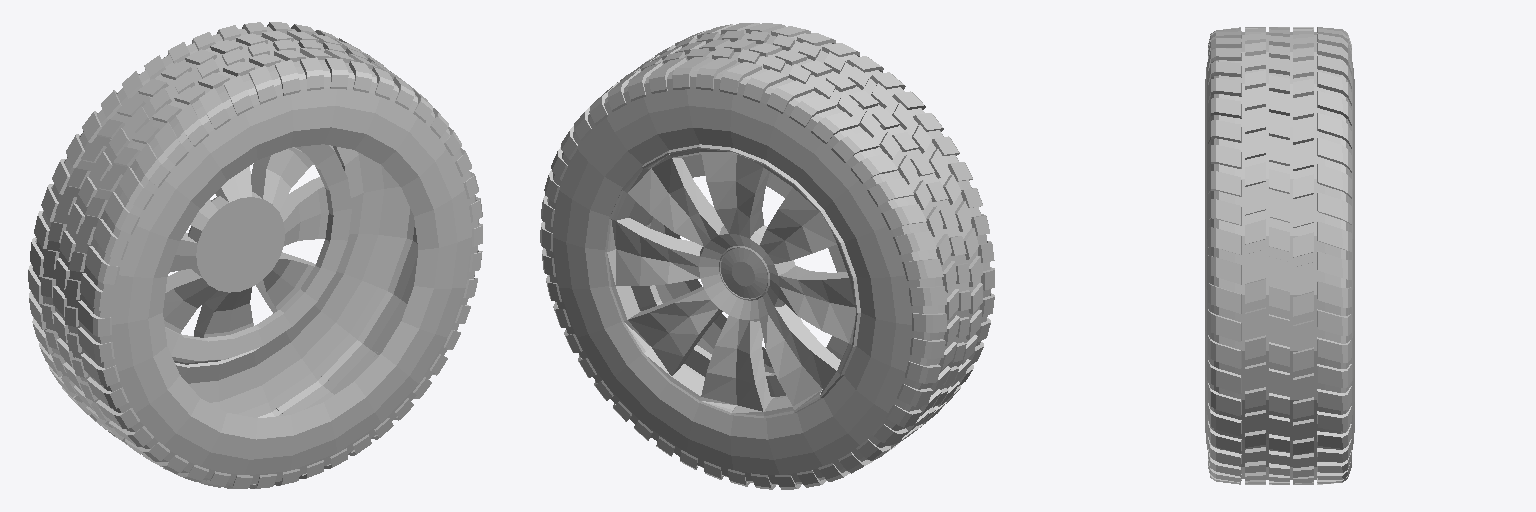
Rendered from tire&rim&tread.obj.
3 renders of one model, left to right at view 1: azimuth 30°, elevation 25°; view 2: azimuth 150°, elevation 25°; view 3: azimuth 270°, elevation 25°, orthographic.
Visible parts, largest first — view 1: polySurface3 polySurface1, pCube57, polySurface1 polySurface4; view 2: polySurface3 polySurface1, polySurface1 polySurface4, pCube57; view 3: pCube57, polySurface3 polySurface1.
Boxes of the visible parts, x1=… form: polySurface3 polySurface1: x1=33, y1=26, x2=478, y2=484; pCube57: x1=28, y1=22, x2=482, y2=488; polySurface1 polySurface4: x1=163, y1=144, x2=351, y2=367; polySurface3 polySurface1: x1=545, y1=30, x2=990, y2=484; polySurface1 polySurface4: x1=605, y1=144, x2=860, y2=418; pCube57: x1=540, y1=23, x2=994, y2=489; pCube57: x1=1208, y1=27, x2=1351, y2=484; polySurface3 polySurface1: x1=1205, y1=32, x2=1354, y2=479.
Bounding box in the file's own units: 4.83 × 4.83 × 1.59.